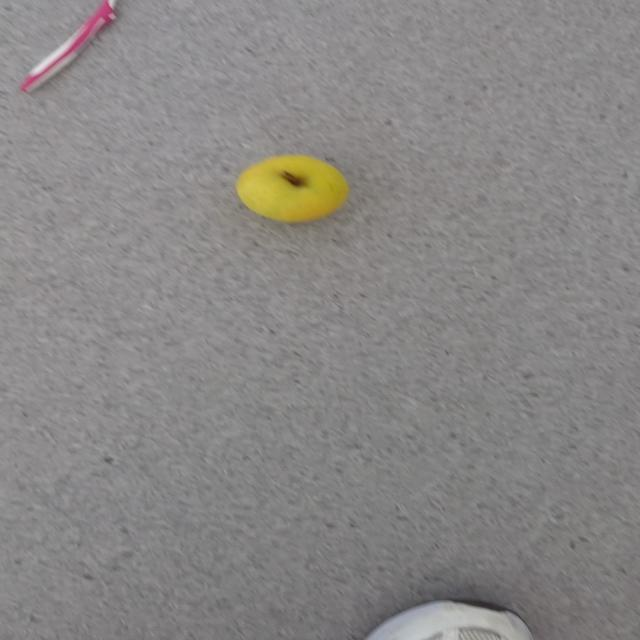apple: (234, 154, 350, 223)
toothbrush: (18, 0, 118, 93)
